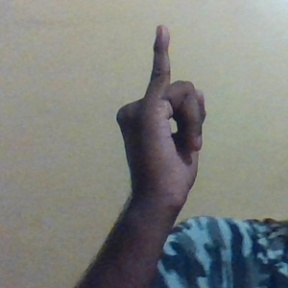I: (112, 23, 214, 197)
